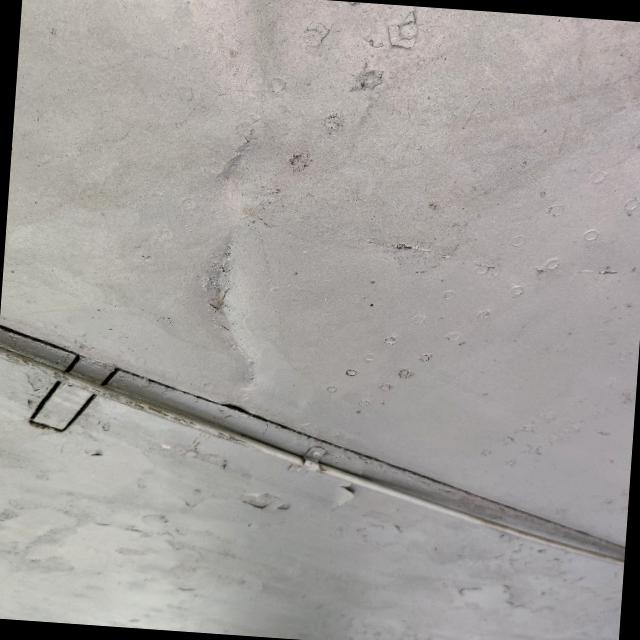dent: (165, 204, 308, 403)
